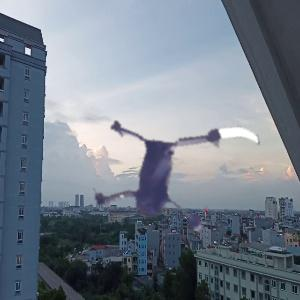drone: (71, 85, 276, 290)
